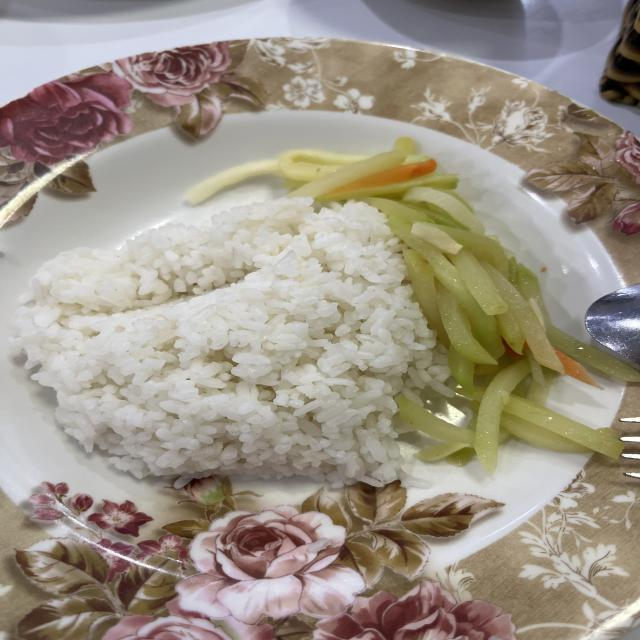com: (14, 192, 449, 485)
rau: (187, 137, 640, 475)
